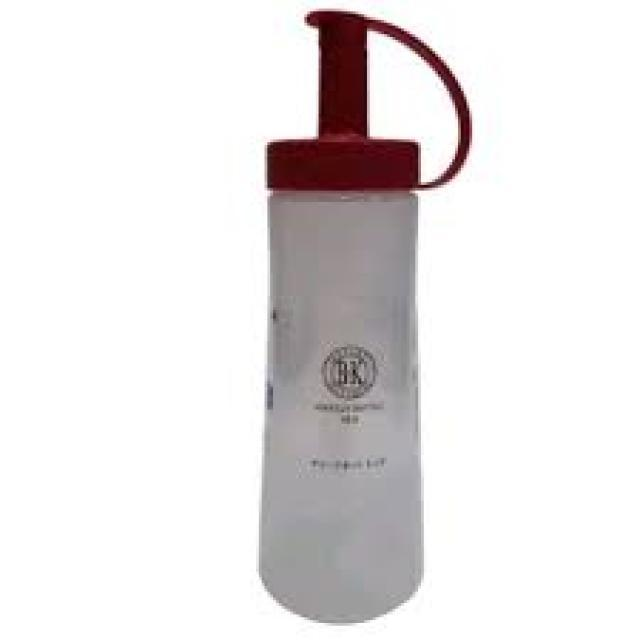good: (224, 1, 507, 628)
